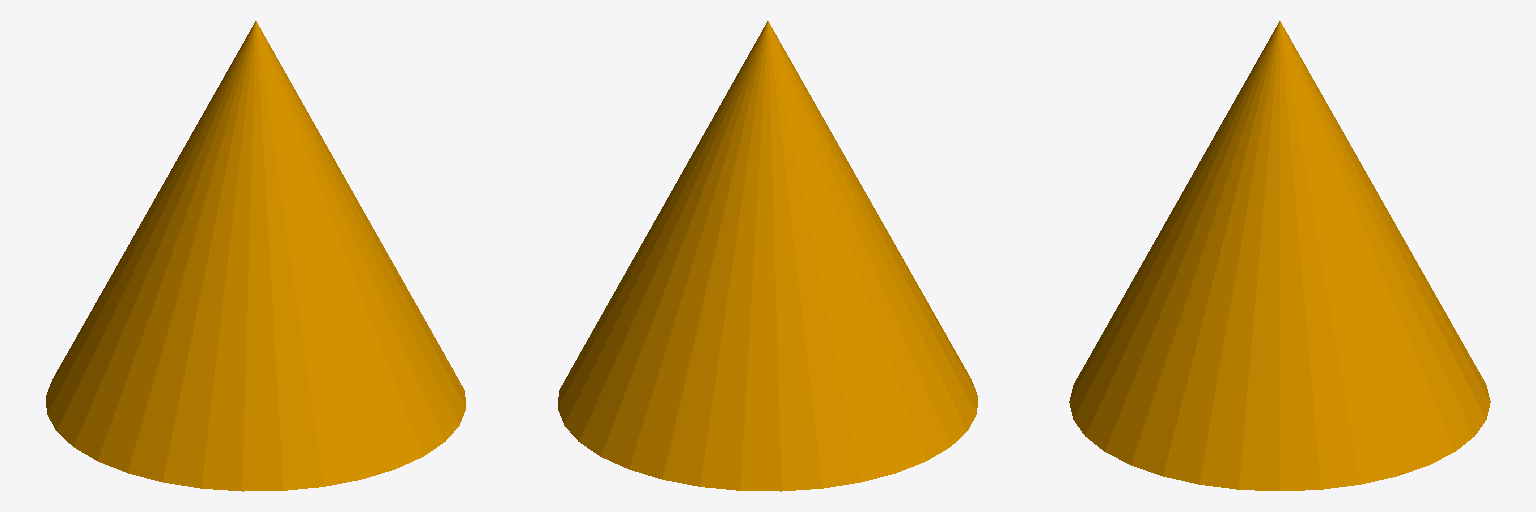
robot.urdf — robot_mesh:
<?xml version="1.0"?>
	<robot name="robot_mesh">
		<link name="base_link">
                  <visual>
                    <origin rpy="0 0 0" xyz="1.31 0.875 2"/>
                    <geometry>
                      <mesh filename="package://hpp_tutorial/meshes/cone_centre.dae"/>
                    </geometry>
                  </visual>
                  <collision> 
                    <origin rpy="0 0 0" xyz="1.31 0.875 2"/>
                    <geometry>
                      <mesh filename="package://hpp_tutorial/meshes/cone_centre.dae"/>
                    </geometry>
                  </collision> 
		</link>
	</robot>

--- What the picture shows (computed from the rendered views, not written in the file) ---
3 views of the same robot in one strip: view 1: azimuth 30°, elevation 25°; view 2: azimuth 150°, elevation 25°; view 3: azimuth 270°, elevation 25° (orthographic).
Robot: robot_mesh — 1 links, 0 joints (none); root link base_link; default pose: every joint at zero.
Visible links, largest first — view 1: base_link; view 2: base_link; view 3: base_link.
Link boxes in pixels (box(x1,y1,x2,y2)): base_link: box(46, 21, 465, 491); base_link: box(558, 21, 977, 491); base_link: box(1069, 21, 1490, 490).
Bounding box of the posed robot: 2 × 2 × 2 m (x, y, z).
1 mesh visuals loaded from 1 distinct referenced files (1 Collada DAE).